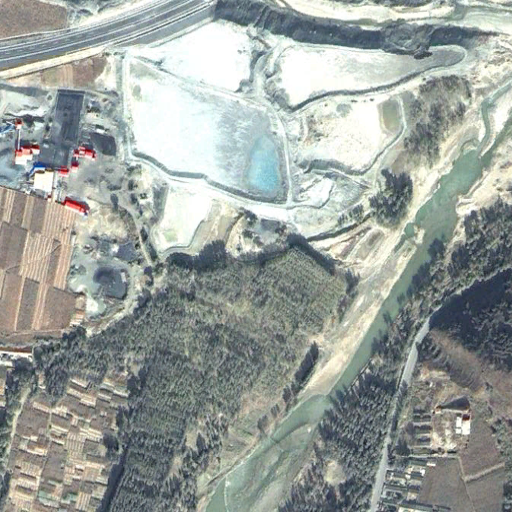tp: (123, 44, 464, 256)
